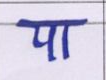aa_matra: (65, 24, 69, 59)
